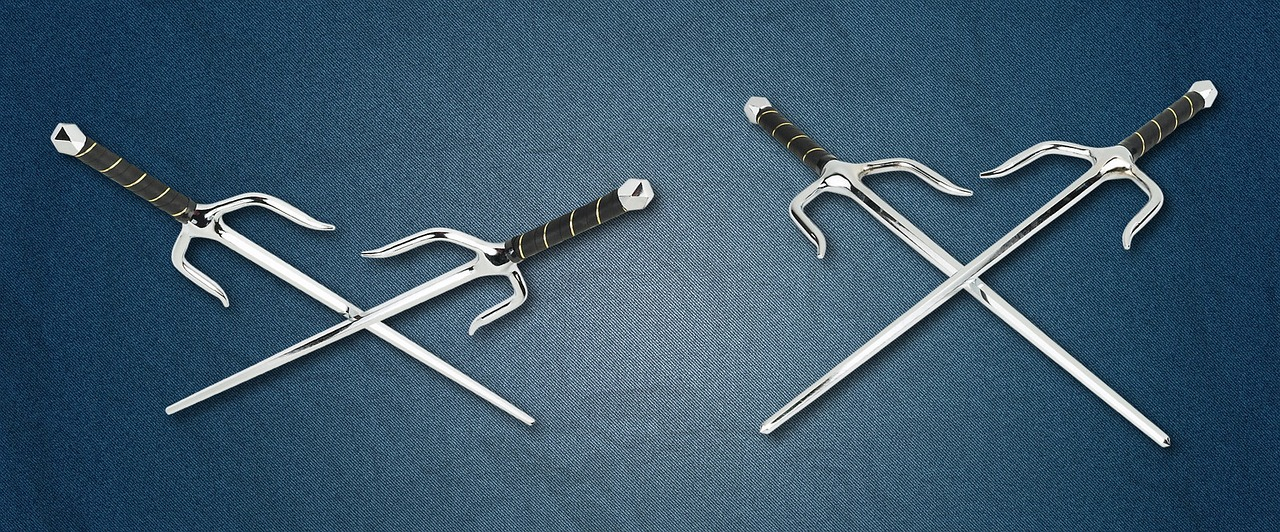knife: (740, 77, 1232, 438), (737, 90, 1189, 455), (49, 119, 540, 426), (154, 168, 669, 420)
